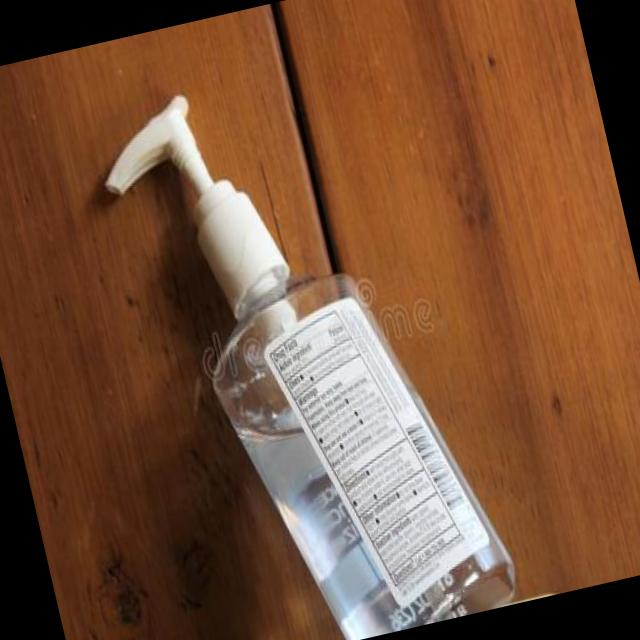sanitizer: (82, 39, 489, 640)
